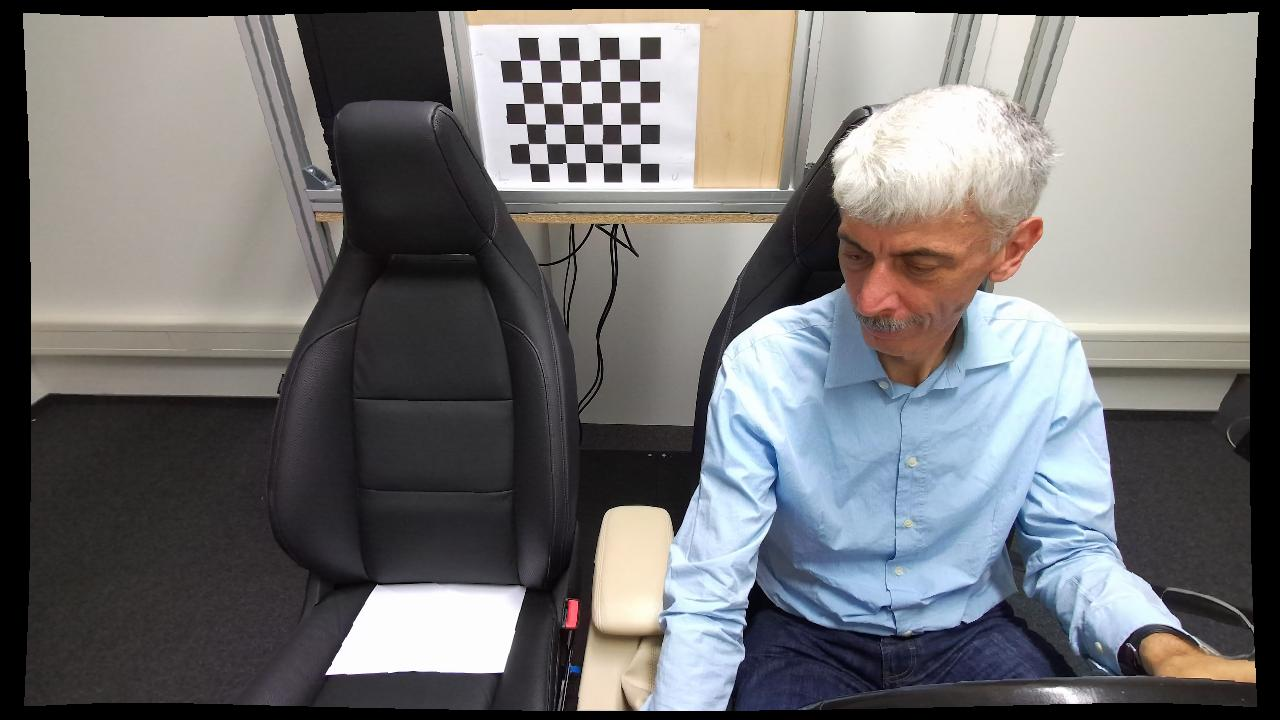Distracted: (637, 80, 1126, 712)
